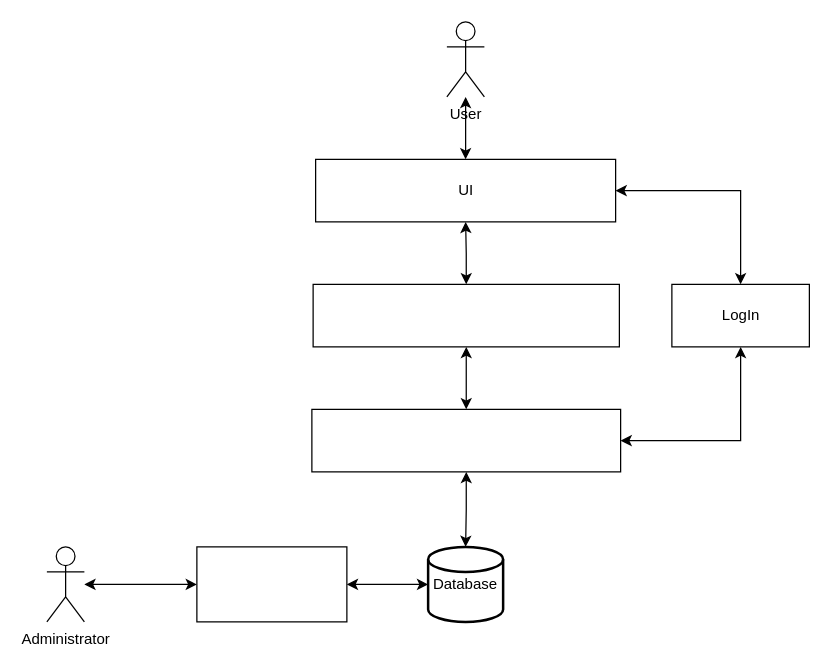
Image size: 831x670. Some labels were removed from this diagram. Each missing label, with the centre of its shape:
Administration Software: point 271,584
Database API: point 466,440
Software Repository: point 465,315
